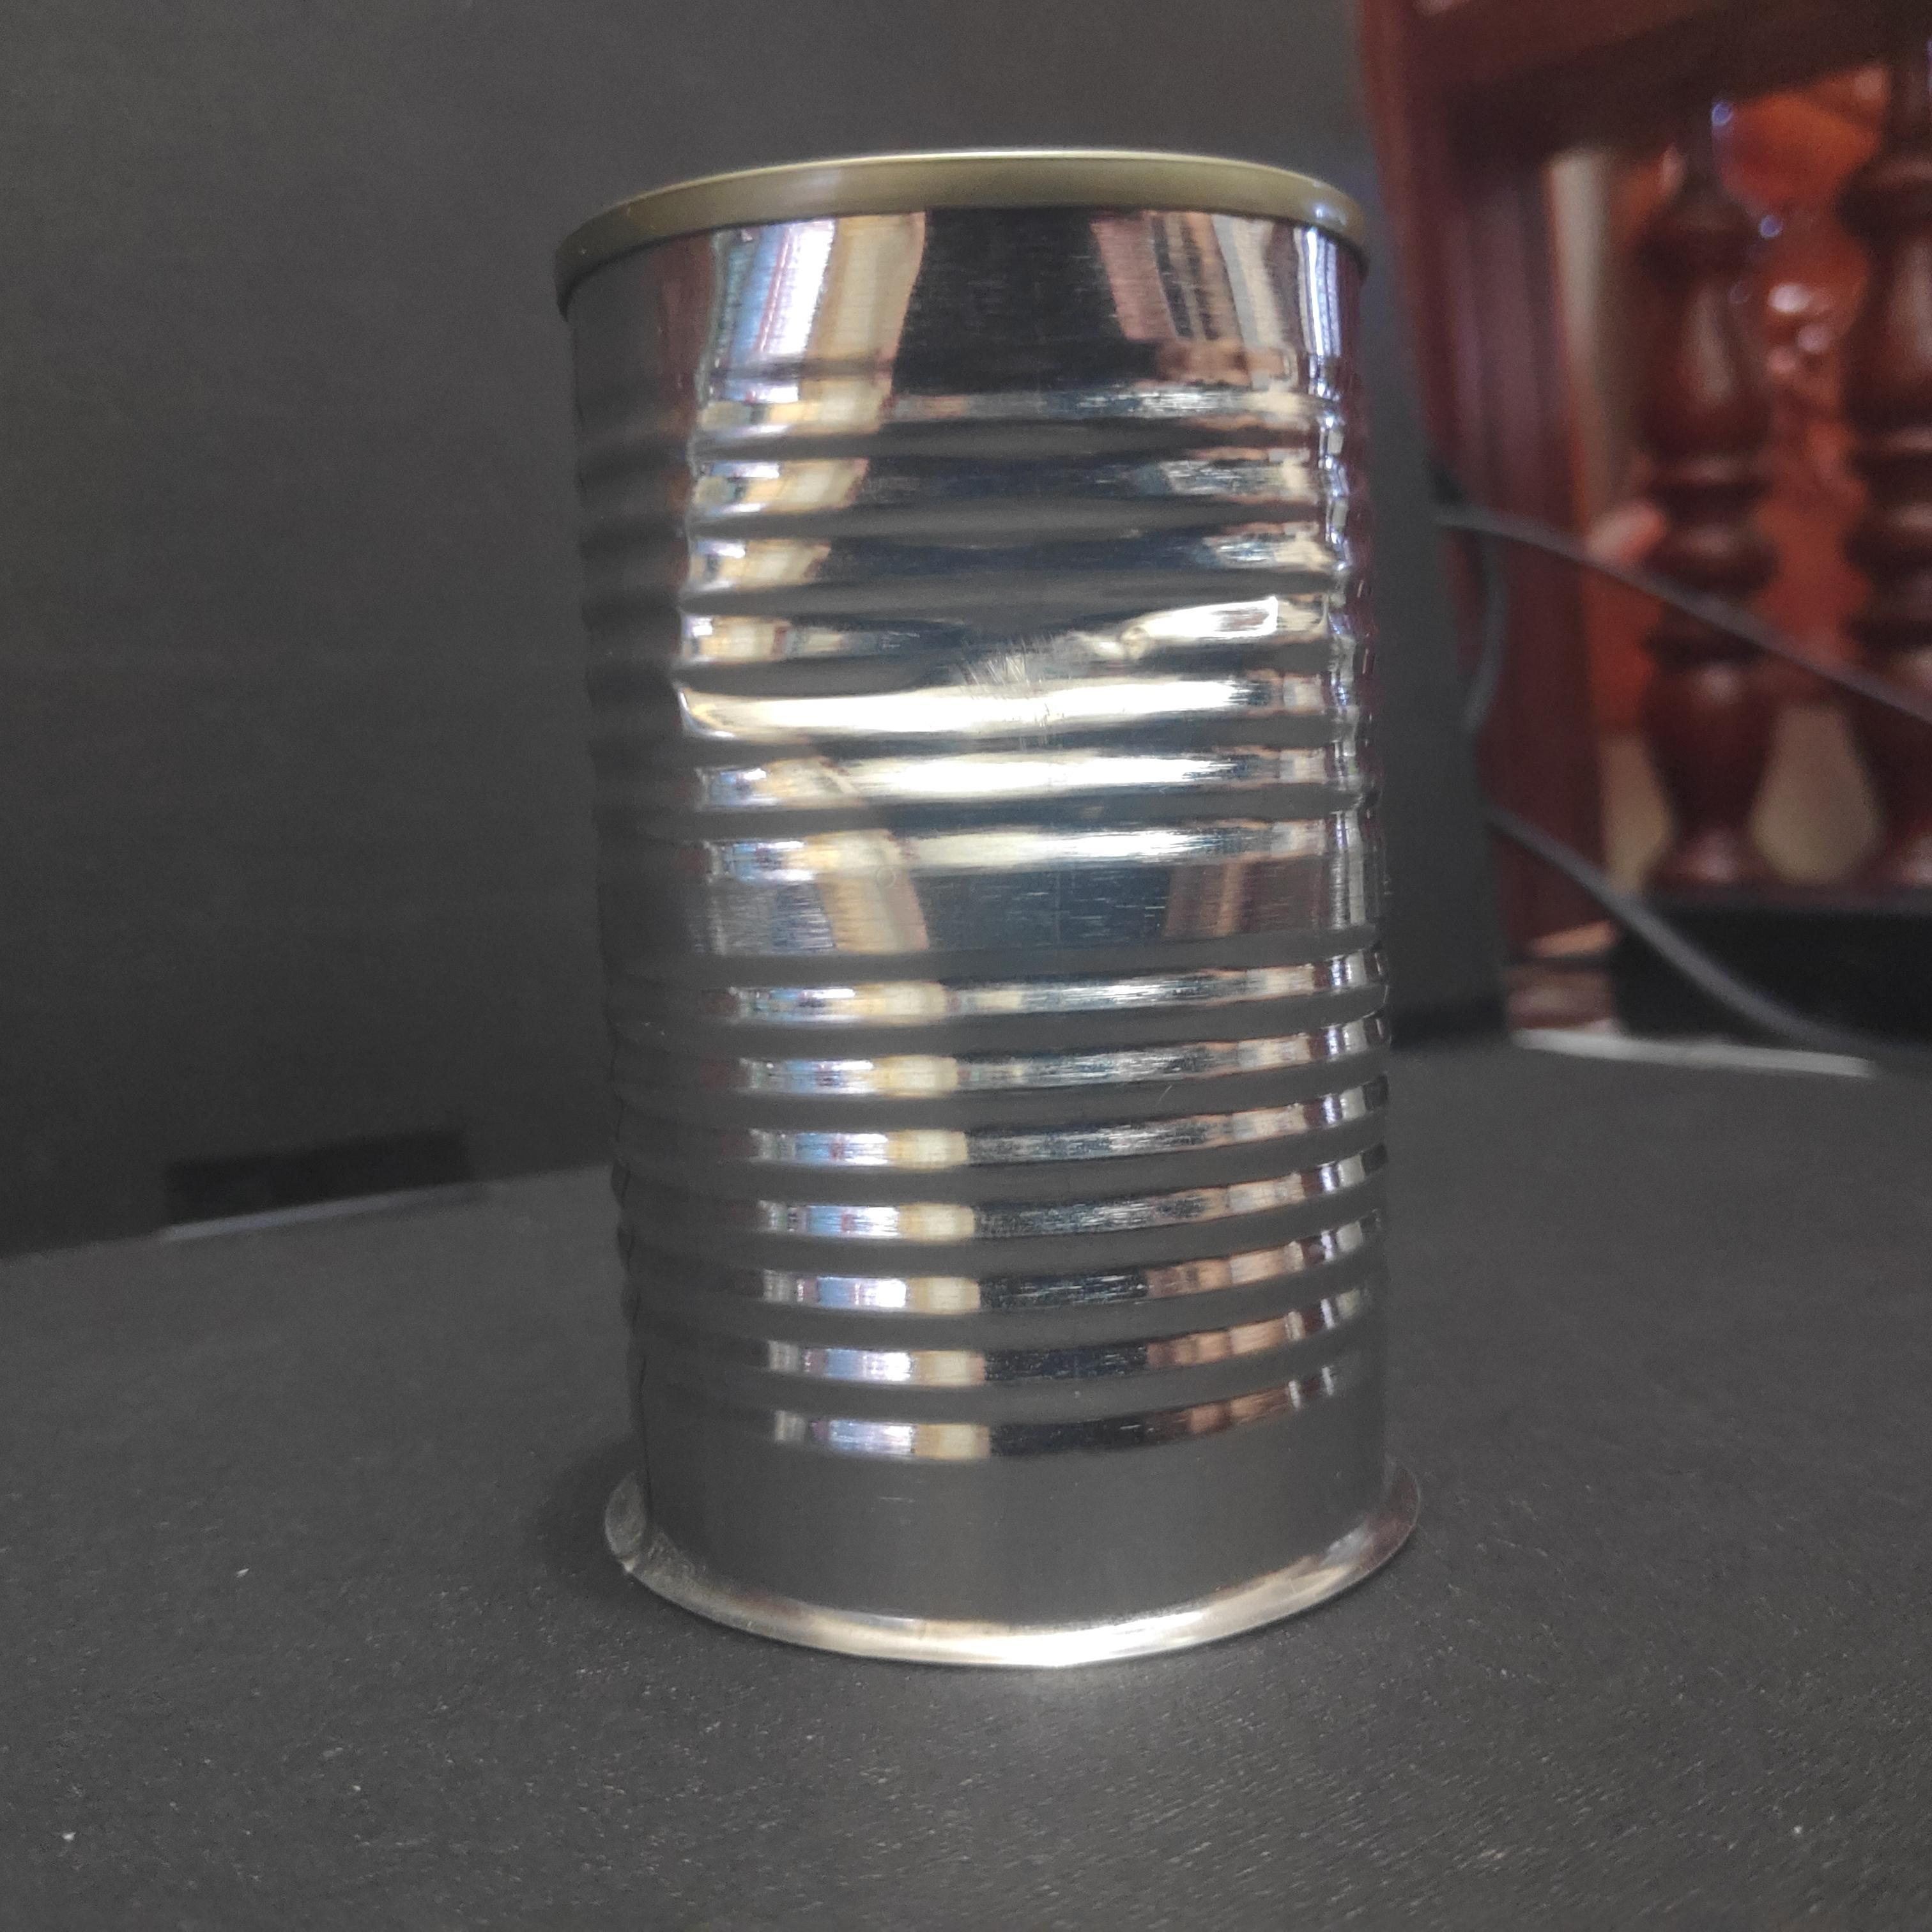Dented: (527, 115, 1440, 1706)
